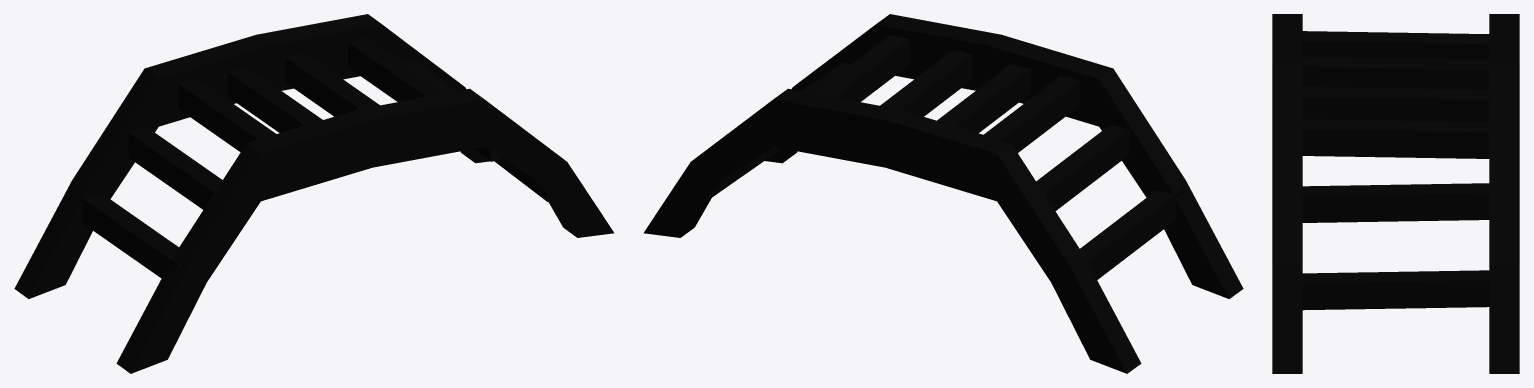
The model's file is Exercicio2.fbx.
3 views of the same model, side by side, from view 1: azimuth 30°, elevation 25°; view 2: azimuth 150°, elevation 25°; view 3: azimuth 270°, elevation 25° (orthographic). The views are drawn at different scales.
Visible parts, largest first — view 1: Exercicio2; view 2: Exercicio2; view 3: Exercicio2.
Boxes of the visible parts, x1,y1,x2,y2 form: Exercicio2: [14, 14, 614, 373]; Exercicio2: [643, 14, 1243, 373]; Exercicio2: [1272, 14, 1519, 373].
Bounding box in the file's own units: 430 × 179 × 165.
